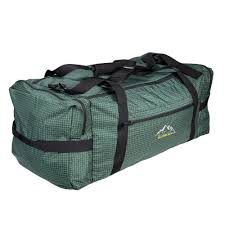bag: (9, 51, 217, 194)
